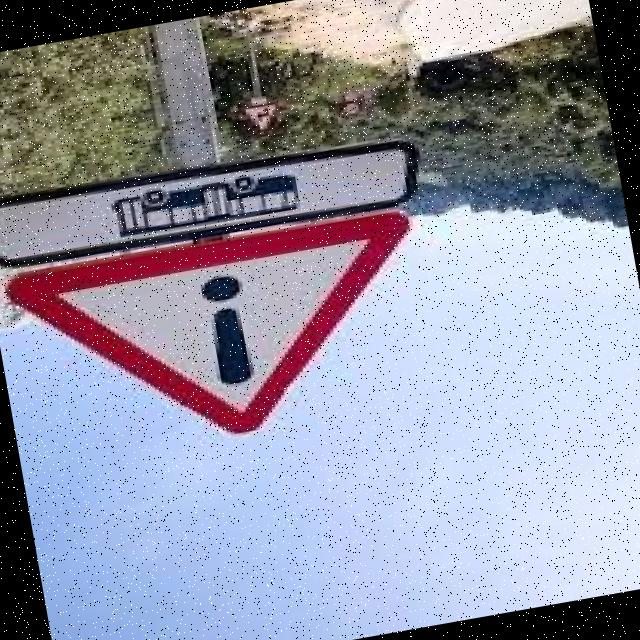warning: (0, 202, 449, 479)
